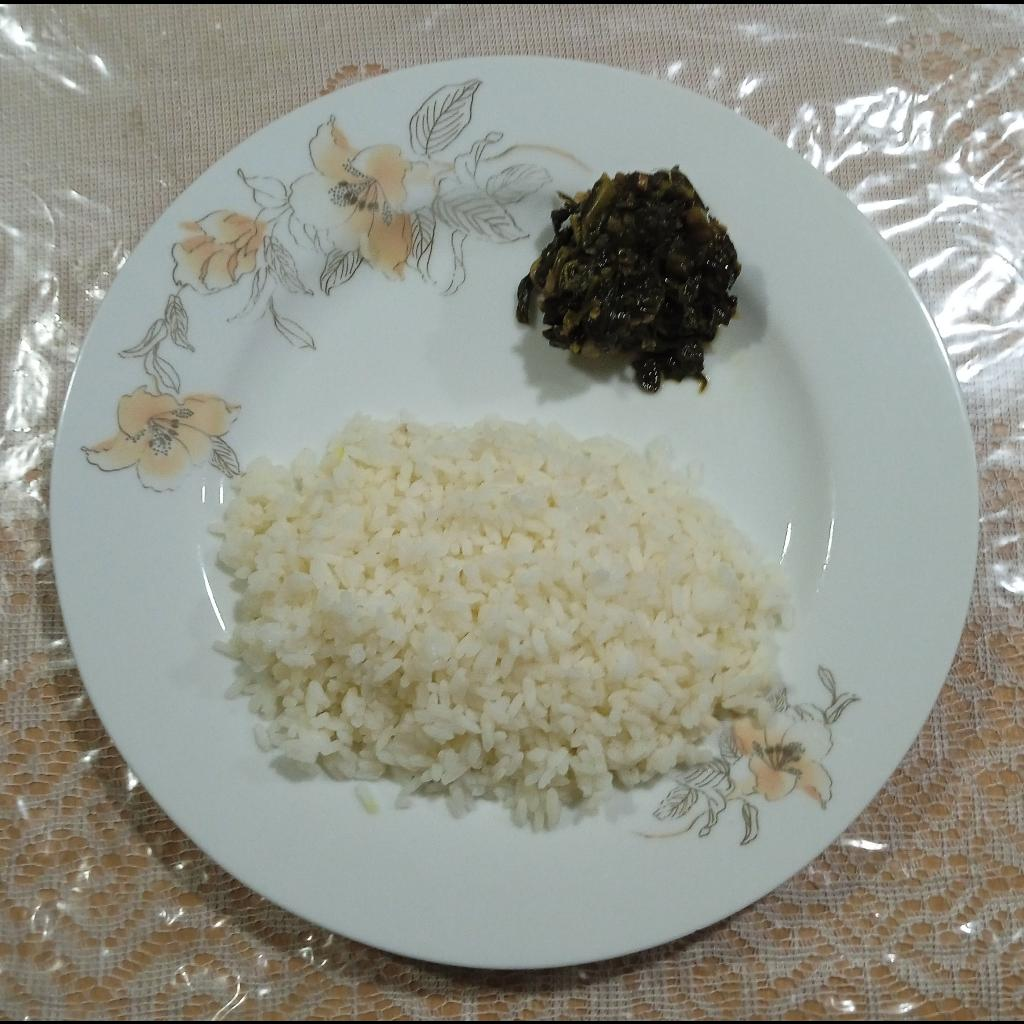rice: (202, 407, 793, 827)
shak: (514, 165, 744, 391)
